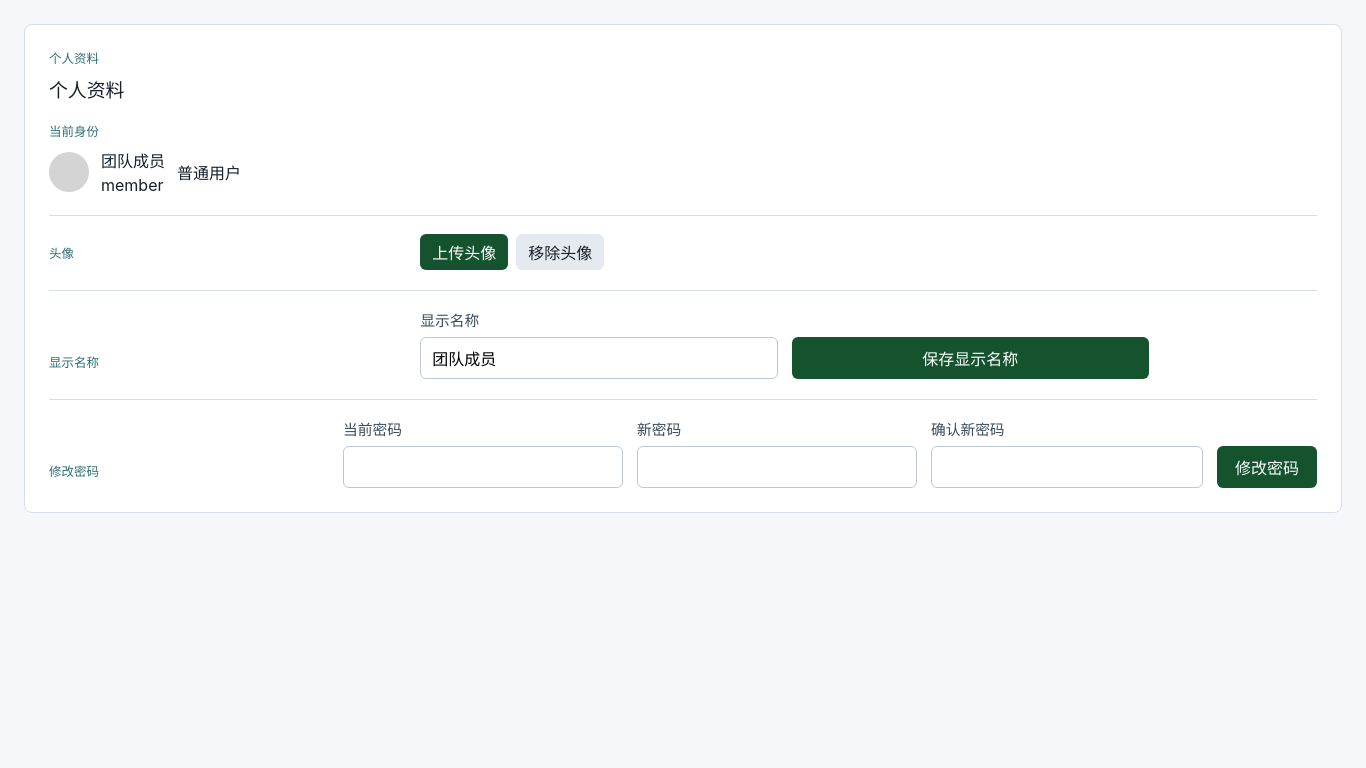
Test case: ProfilePage › requires current password for normal users when changing password
Type "wrong" into the password field labelled "当前密码" at [483, 467], box [343, 446, 623, 488]
Type "newpass" into the password field labelled "新密码" at [777, 467], box [637, 446, 917, 488]
Type "newpass" into the password field labelled "确认新密码" at [1067, 467], box [931, 446, 1203, 488]
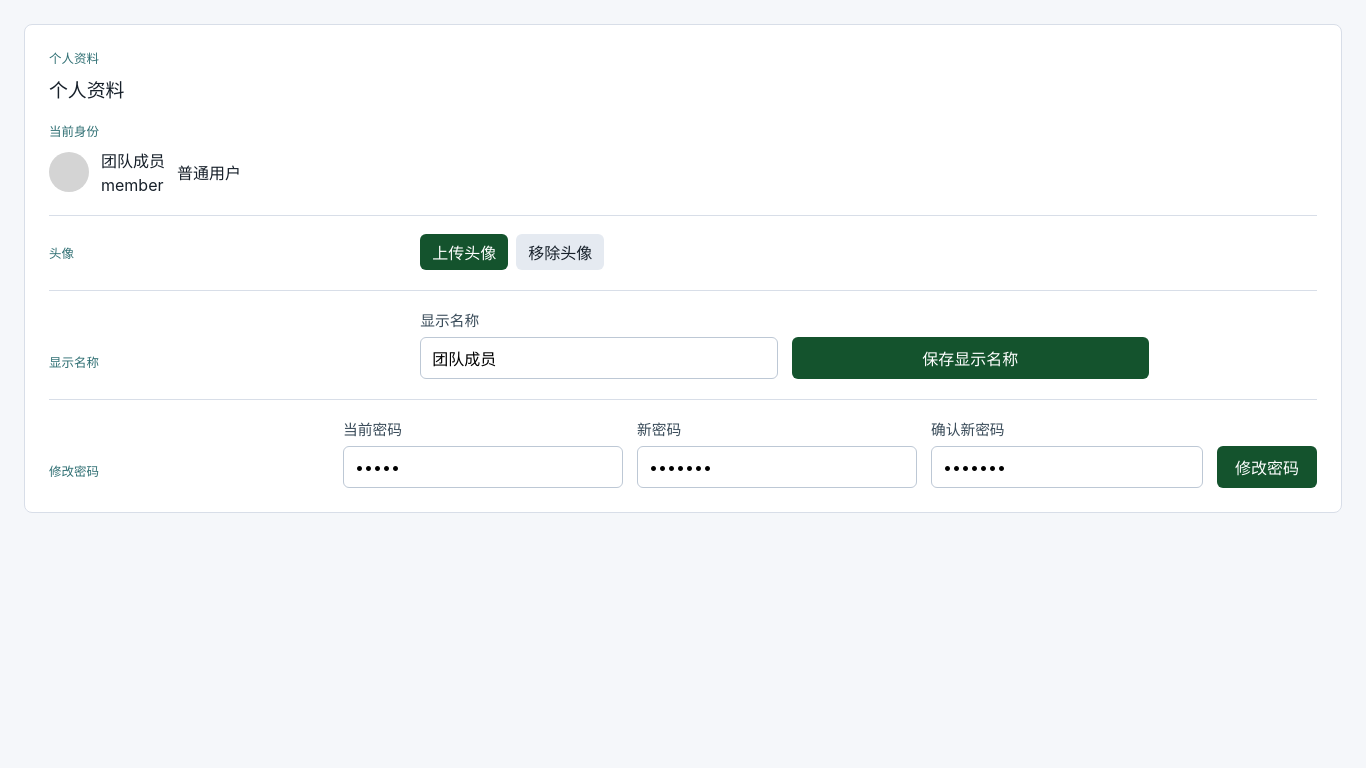
Click the button "修改密码" at [1267, 467], box [1217, 446, 1317, 488]
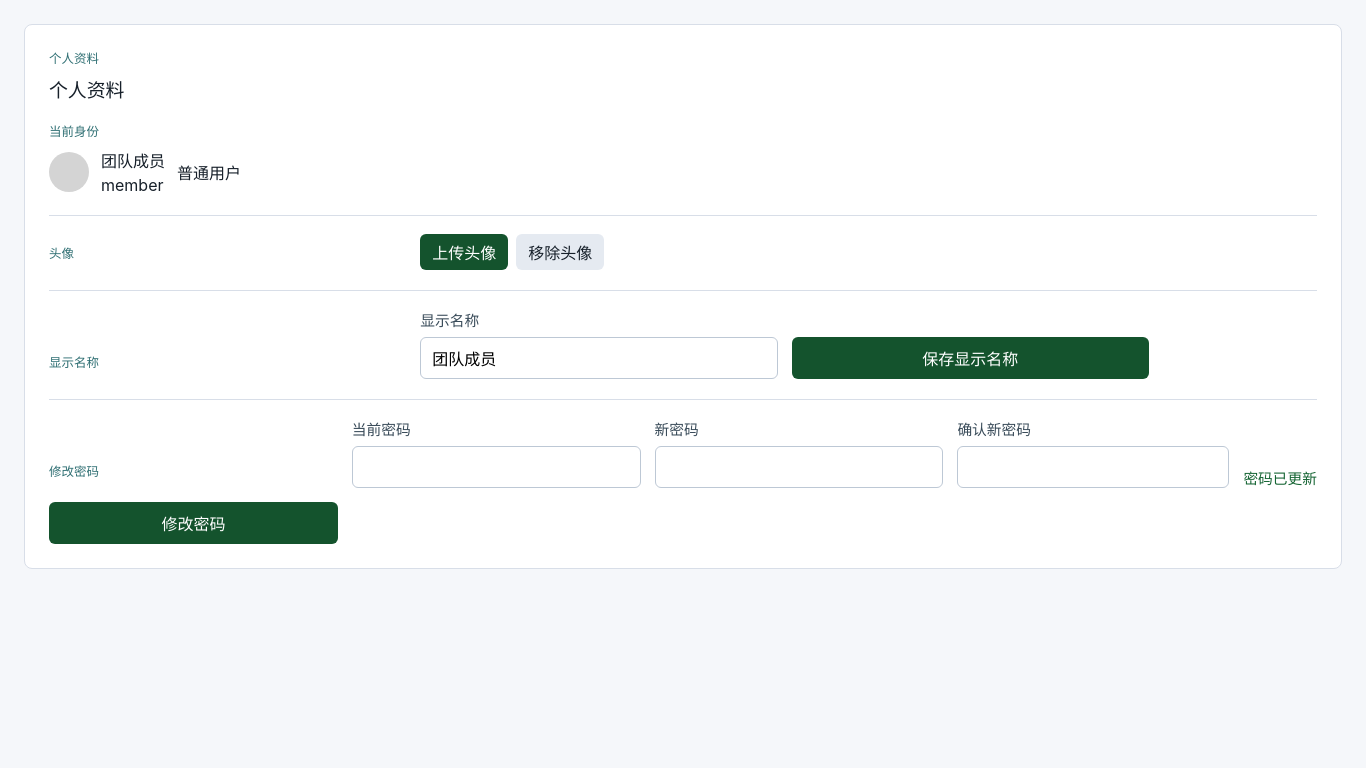
Type "wrong2" into the password field labelled "当前密码" at [496, 467], box [352, 446, 641, 488]
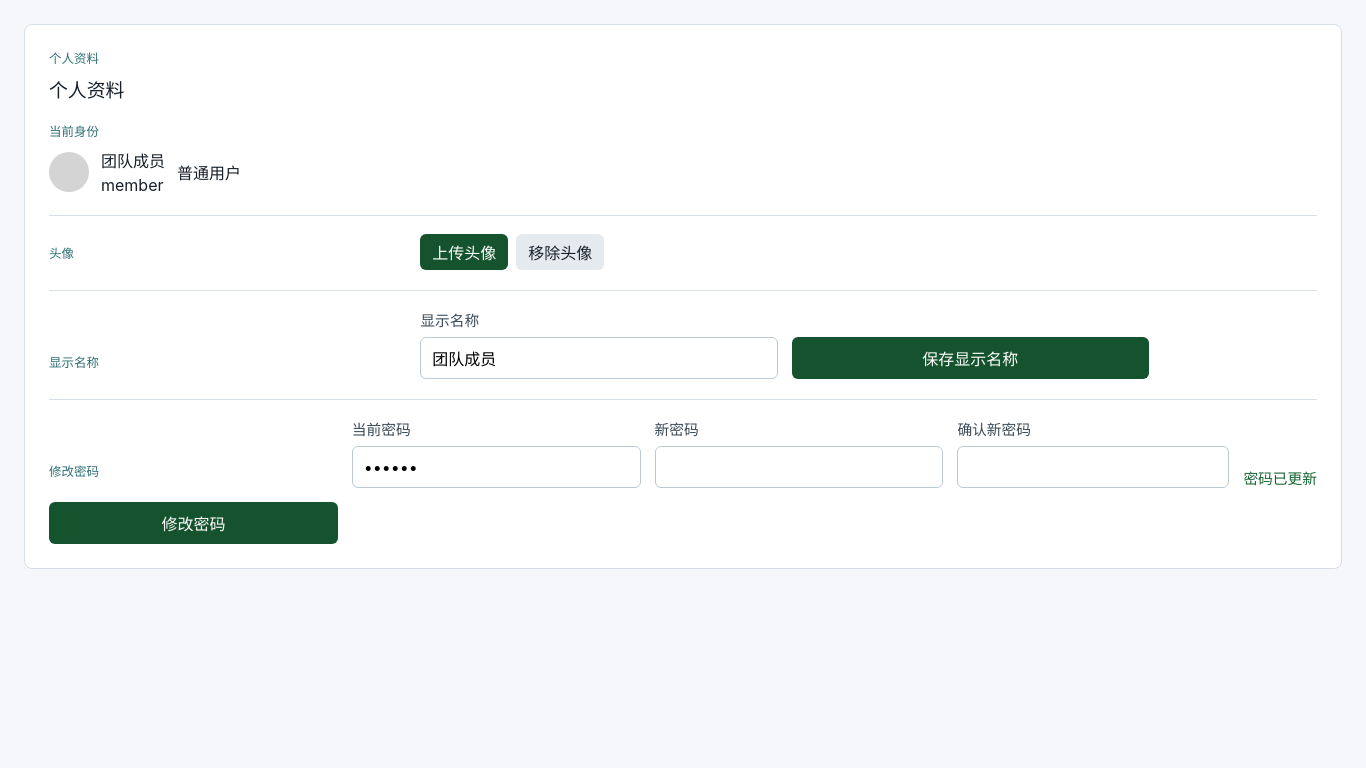
Type "another" into the password field labelled "新密码" at [799, 467], box [655, 446, 943, 488]
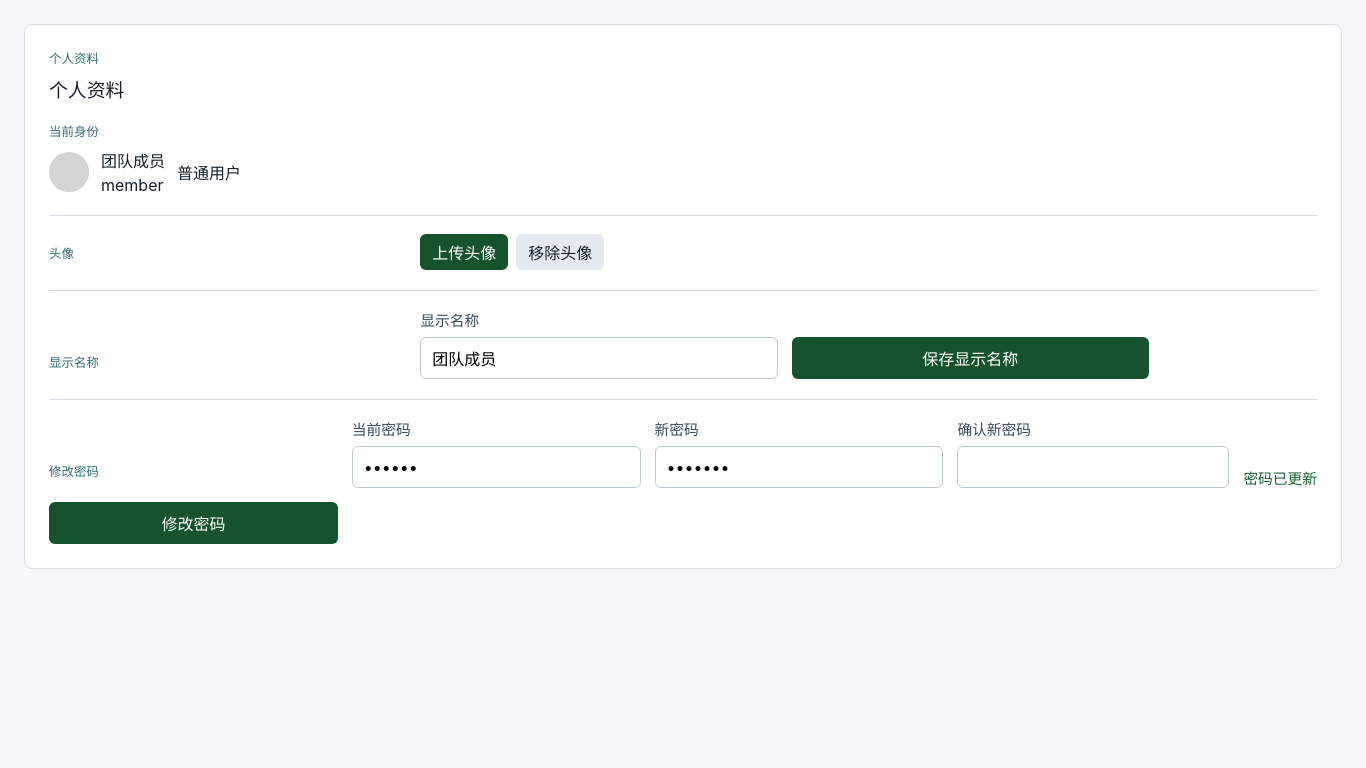
Type "another" into the password field labelled "确认新密码" at [1093, 467], box [957, 446, 1229, 488]
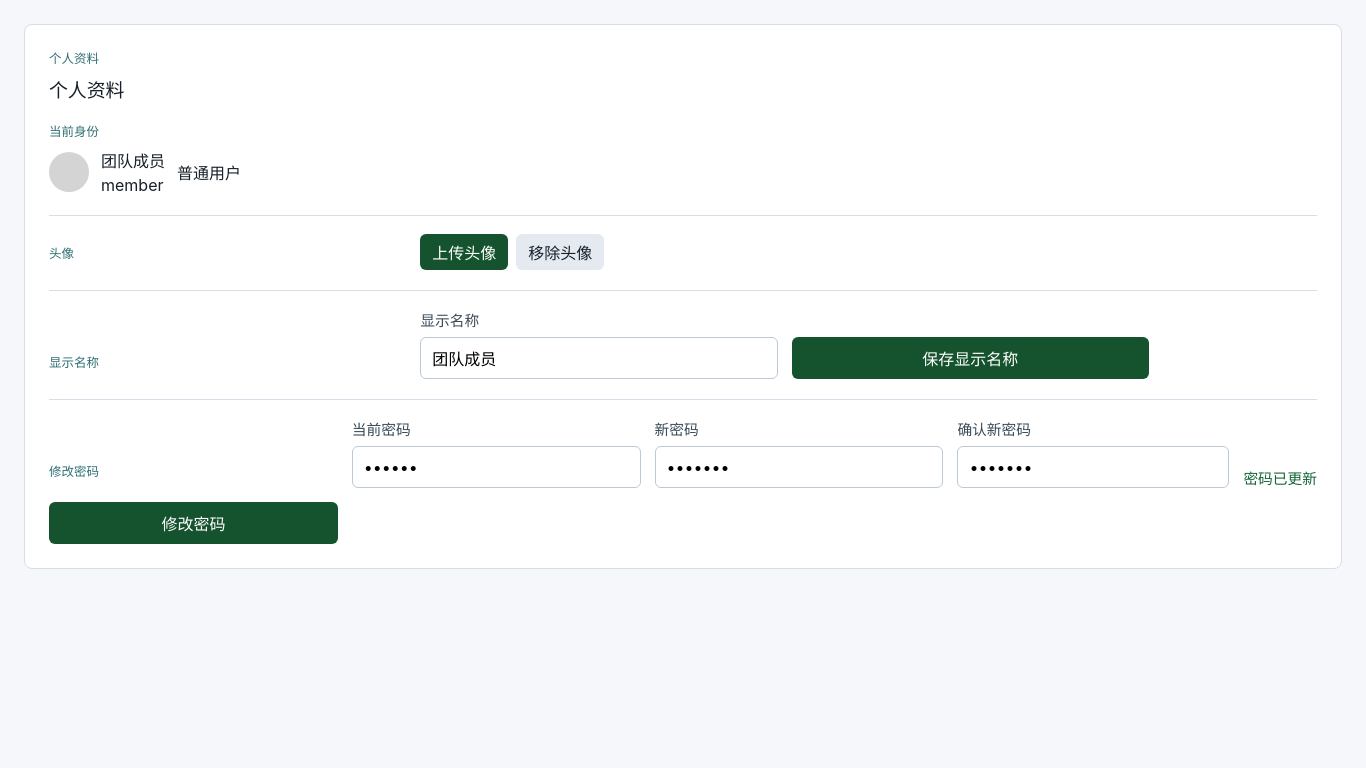
Click the button "修改密码" at [193, 523], box [49, 502, 338, 544]
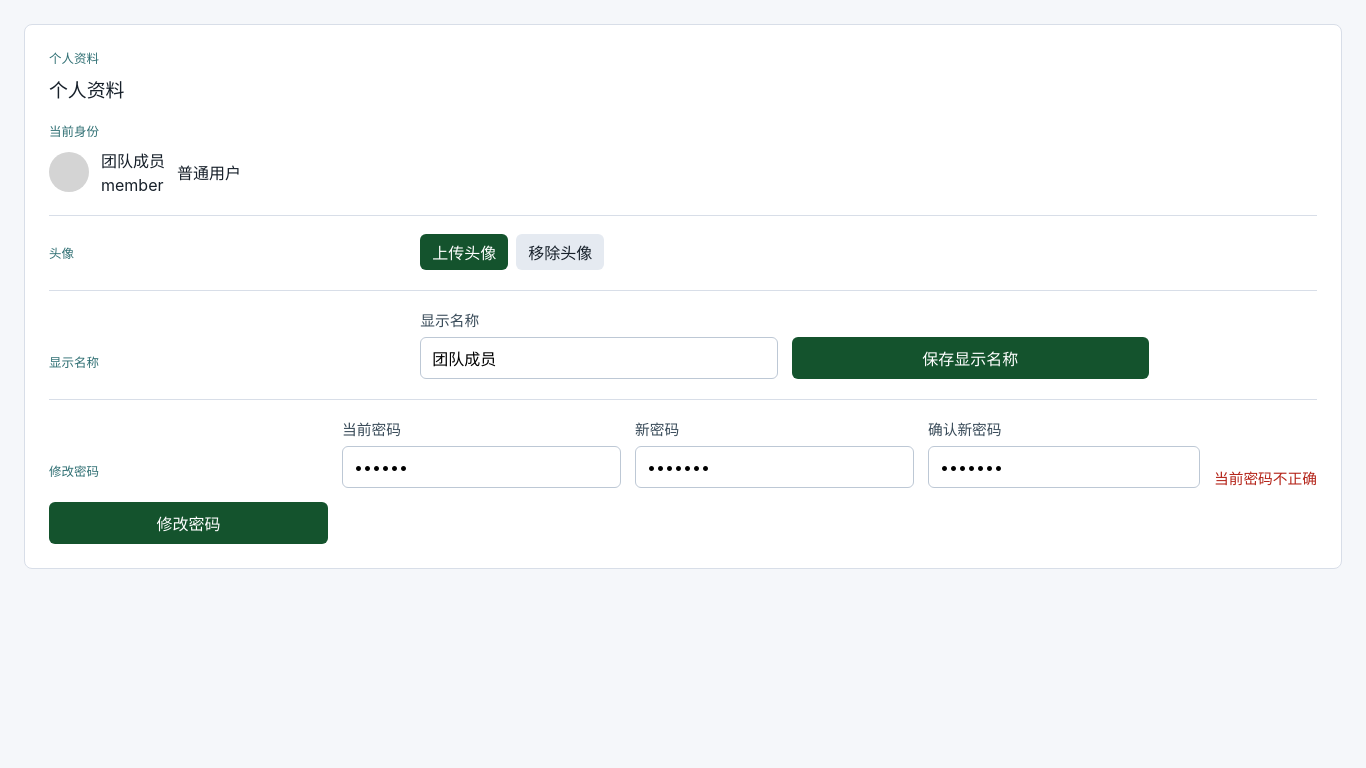
Expected: the text "当前密码不正确" is shown, [1214, 467, 1317, 488]
